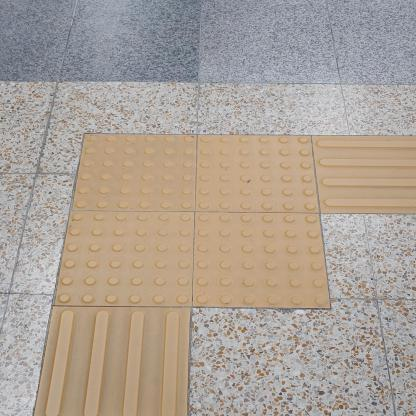podotacti: (25, 121, 415, 415)
